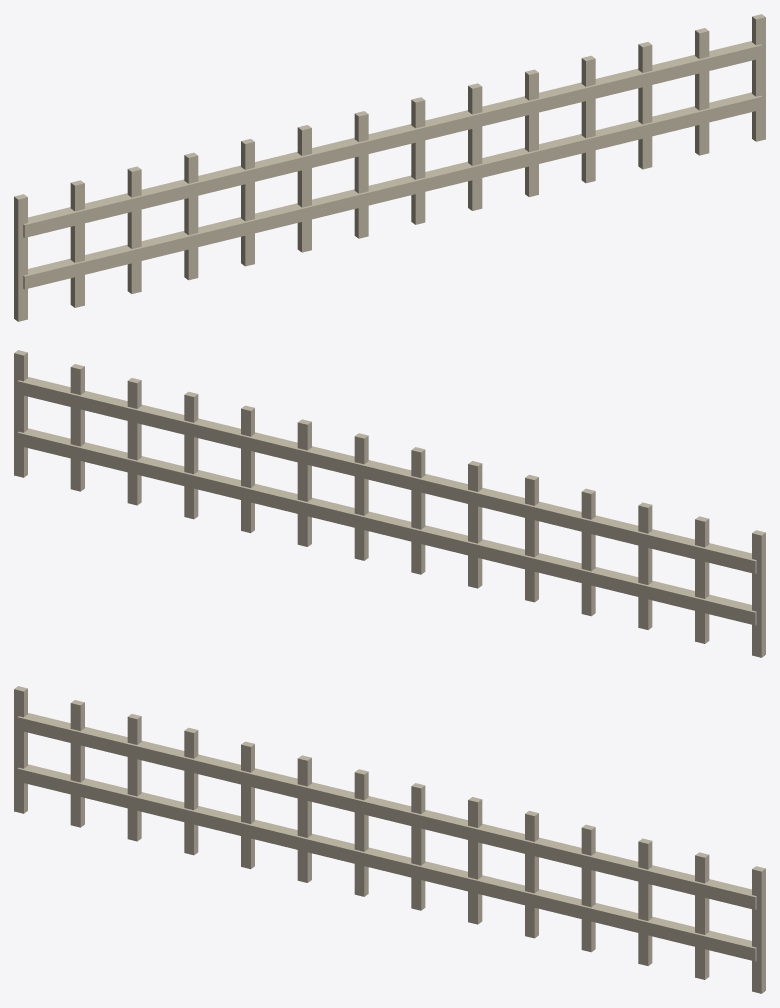
The model's file is Fence.glb.
3 renders of one model, top to bottom at view 1: azimuth 30°, elevation 25°; view 2: azimuth 150°, elevation 25°; view 3: azimuth 330°, elevation 25°, orthographic.
Visible parts, largest first — view 1: Fence; view 2: Fence; view 3: Fence.
Part boxes in pixels (<box>): Fence: <box>14,14,765,321</box>; Fence: <box>14,350,765,657</box>; Fence: <box>14,686,765,993</box>.
Bounding box in the file's own units: 6.08 × 0.95 × 0.1.
